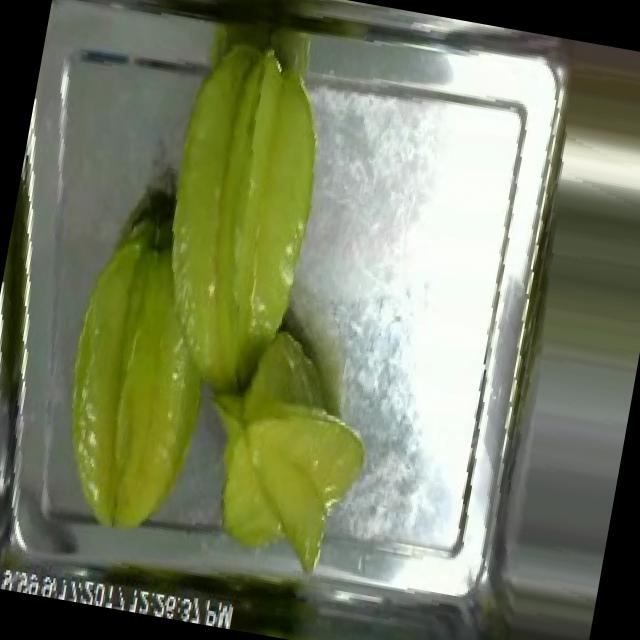fruit: (125, 18, 350, 394), (23, 203, 246, 556), (188, 309, 394, 590)
